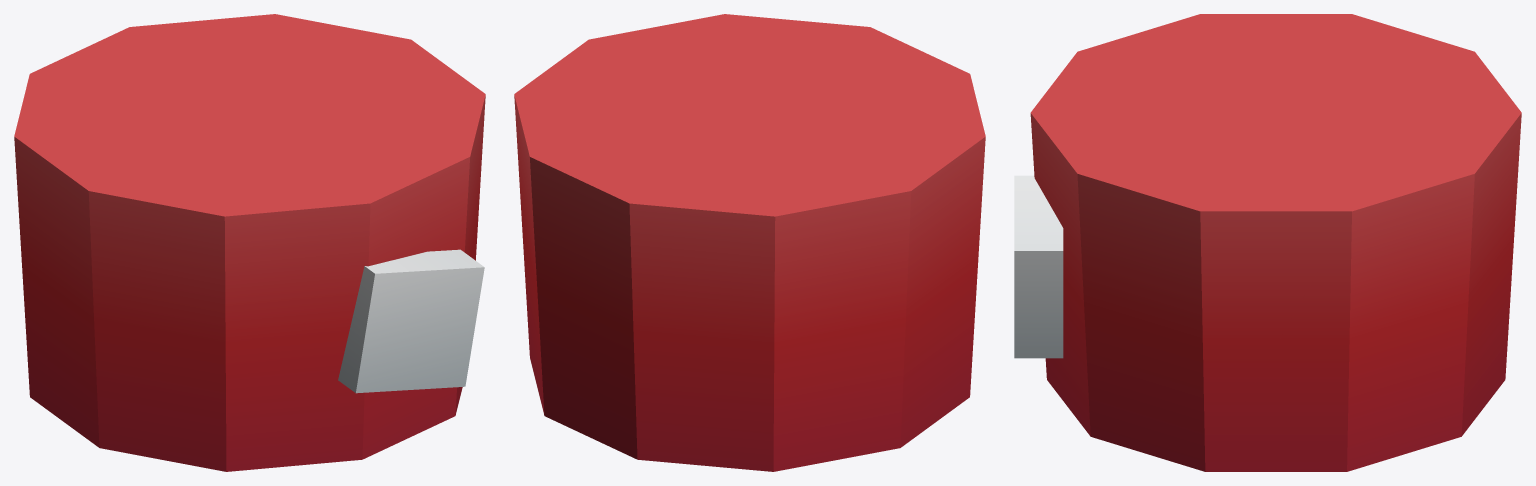
The model's file is patchwork_pants_shin_r.glb.
The picture shows the model from 3 angles, left to right: view 1: azimuth 30°, elevation 25°; view 2: azimuth 150°, elevation 25°; view 3: azimuth 270°, elevation 25°; orthographic projection.
Visible parts, largest first — view 1: patchwork_pants_shin; view 2: patchwork_pants_shin; view 3: patchwork_pants_shin.
Part boxes in pixels (box(x1,y1,x2,y2)): patchwork_pants_shin: box(14, 14, 485, 471); patchwork_pants_shin: box(514, 14, 985, 471); patchwork_pants_shin: box(1014, 14, 1521, 471).
Size of the model in its own units: 0.2853 by 0.18 by 0.31.
Materials: 1 (1 with a texture image).
